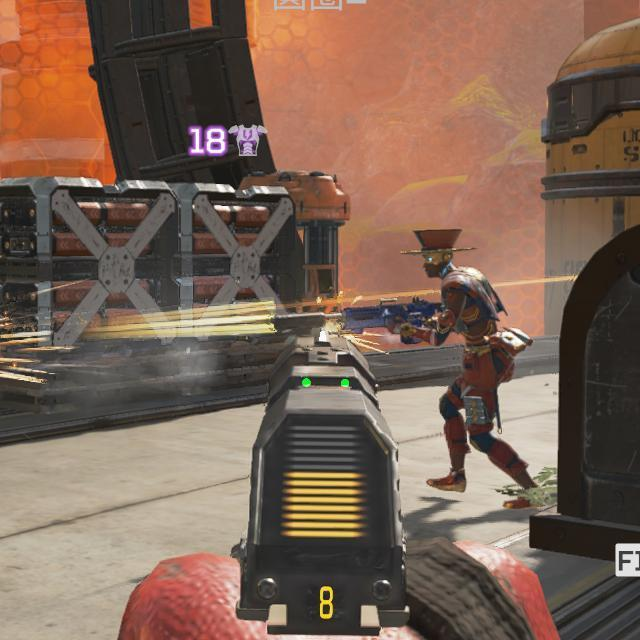avatar: (387, 227, 546, 508)
